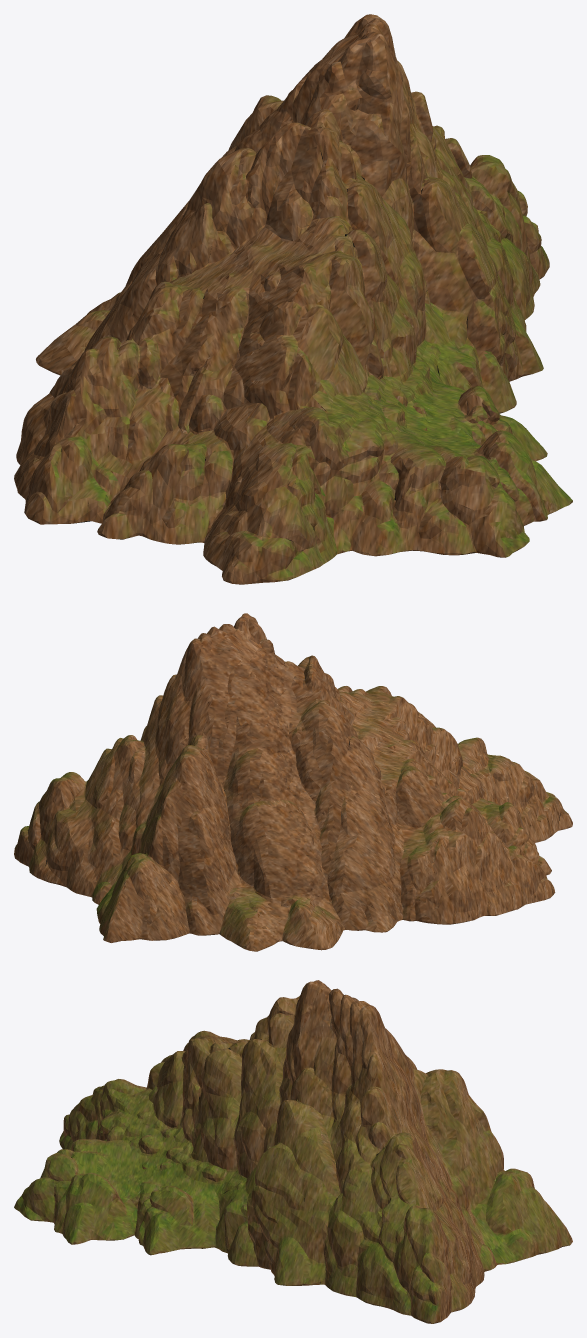
Rendered from Suncrest beach main rock v2.fbx.
The picture shows the model from 3 angles, top to bottom: view 1: azimuth 30°, elevation 25°; view 2: azimuth 150°, elevation 25°; view 3: azimuth 270°, elevation 25°; orthographic projection. The views are drawn at different scales.
Parts seen in each view (by area): view 1: Mountain_MeadowStone_Unity; view 2: Mountain_MeadowStone_Unity; view 3: Mountain_MeadowStone_Unity.
Boxes of the visible parts, x1,y1,x2,y2 form: Mountain_MeadowStone_Unity: (14,14,572,584); Mountain_MeadowStone_Unity: (14,613,572,951); Mountain_MeadowStone_Unity: (14,980,572,1323).
Size of the model in its own units: 96.2 by 49.87 by 99.41.
Materials: 1 (1 with a texture image).
